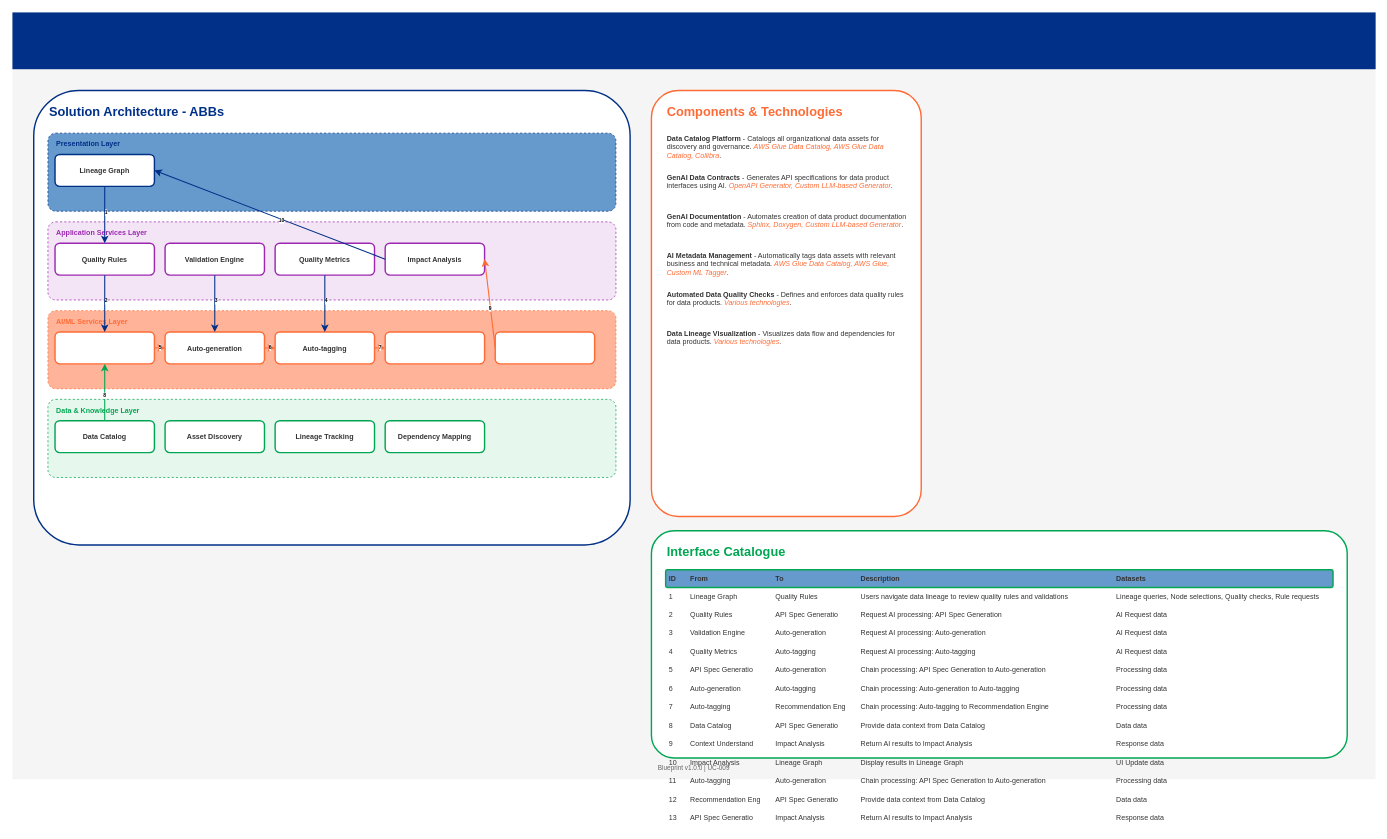
The diagram is 1387 pixels wide and 839 high, and some of its shapes have lost their labels. The centre of each missing label's shape, as x and y in pixels:
"API Spec Generation" goes at pixel 104 347.
"Context Understanding" goes at pixel 544 347.
"Recommendation Engine" goes at pixel 434 347.
"Use Case Blueprint: UC-009 Data Products" goes at pixel 693 40.
